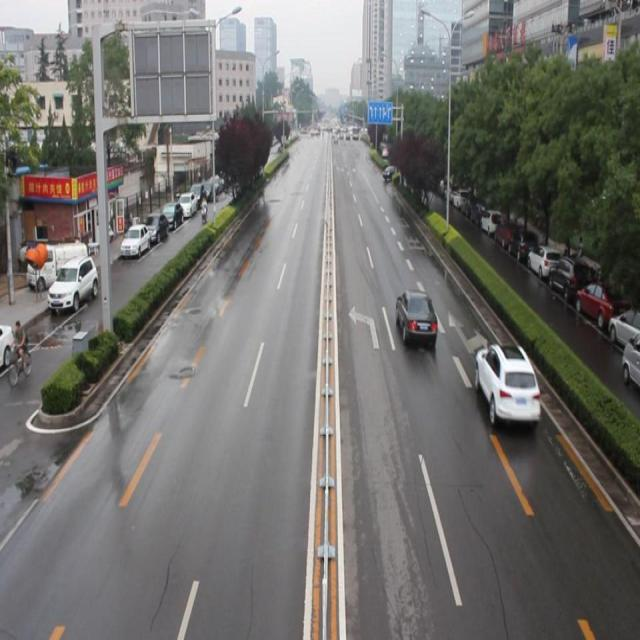car: (474, 345, 541, 425), (396, 286, 438, 346), (381, 164, 396, 182)
